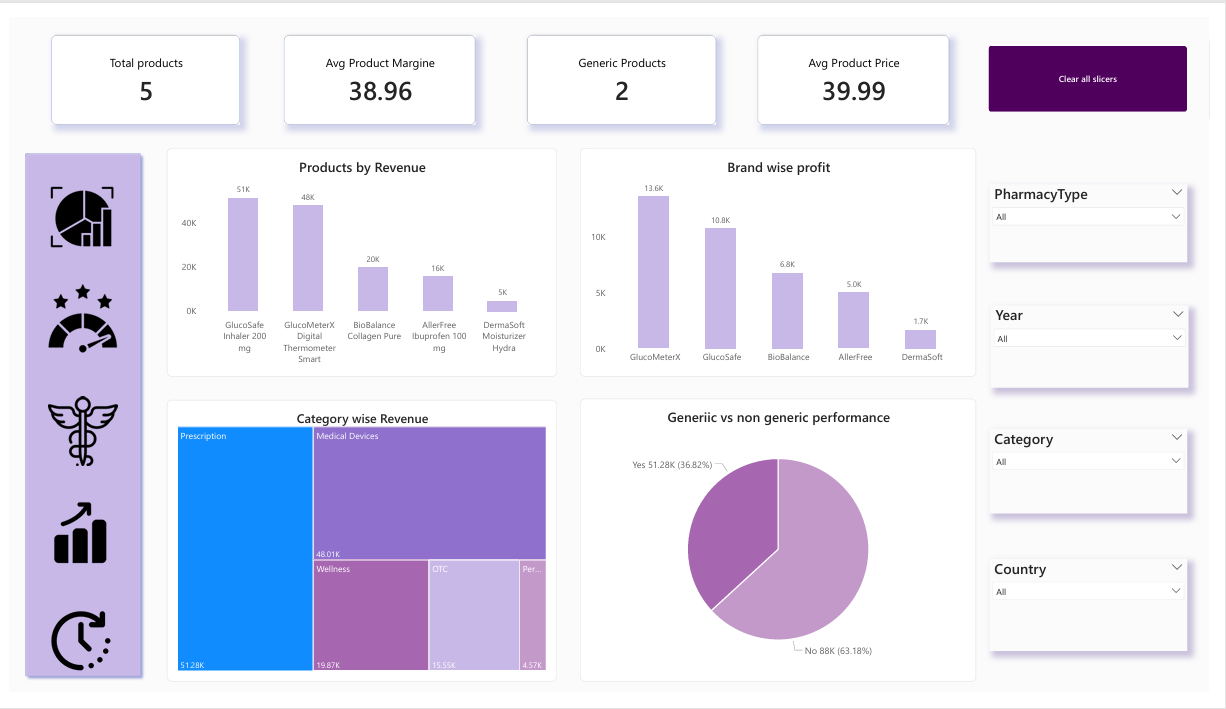

What the dashboard file says about the page in this screenshot:
{"tool":"powerbi","page":{"name":"Performance Analysis","canvas":[1920,1080],"ordinal":1},"visuals":[{"type":"cardVisual","fields":{"Data":["DimProduct.Total products"]},"box":[65.9,26.8,302.6,144.1],"z":0},{"type":"cardVisual","fields":{"Data":["DimProduct.Avg Product Margine"]},"box":[438.4,26.8,306.7,144.1],"z":1000},{"type":"cardVisual","fields":{"Data":["DimProduct.Generic Products"]},"box":[827.4,26.8,302.6,144.1],"z":2000},{"type":"cardVisual","fields":{"Data":["DimProduct.Avg Product Price"]},"box":[1195.9,26.8,306.7,144.1],"z":3000},{"type":"columnChart","title":"Products by Revenue","fields":{"Category":["DimProduct.ProductName"],"Y":["Sum(FactSales.RevenueEUR)"]},"box":[251.1,207.9,623.7,366.4],"z":4000},{"type":"treemap","title":"Category wise  Revenue","fields":{"Group":["DimProduct.Category"],"Values":["Sum(FactSales.RevenueEUR)"]},"box":[251.1,611.3,623.7,450.8],"z":5000},{"type":"columnChart","title":"Brand wise profit","fields":{"Category":["DimProduct.Brand"],"Y":["Sum(FactSales.MarginEUR)"]},"box":[911.8,207.9,634,366.4],"z":6000},{"type":"pieChart","title":"Generiic vs non generic performance","fields":{"Category":["DimProduct.IsGeneric"],"Y":["Sum(FactSales.RevenueEUR)"]},"box":[911.8,609.3,634,452.8],"z":7000},{"type":"slicer","fields":{"Values":["DimPharmacy.PharmacyType"]},"box":[1567.2,266,316.7,124.9],"z":8000},{"type":"slicer","fields":{"Values":["DimDate.Date.Variation.Date Hierarchy.Year"]},"box":[1569,459.7,316.7,132.1],"z":9000},{"type":"slicer","fields":{"Values":["DimProduct.Category"]},"box":[1567.2,656.9,316.7,135.7],"z":10000},{"type":"slicer","fields":{"Values":["DimPharmacy.Country"]},"box":[1567.2,865,316.7,148.4],"z":11000},{"type":"actionButton","box":[1566.4,45.3,317,105],"z":12000},{"type":"group","id":"g1","title":"Group 1","box":[16.5,207.9,201.7,854.2],"z":13000},{"type":"shape","box":[16.5,207.9,201.7,854.2],"z":16500,"group":"g1"},{"type":"image","box":[45.3,422,142,117.3],"z":17005,"group":"g1"},{"type":"image","box":[43.3,944.8,140,102.9],"z":17505,"group":"g1"},{"type":"image","box":[61.8,588.7,111.1,144.1],"z":18005,"group":"g1"},{"type":"image","box":[59.7,255.2,113.2,125.6],"z":18505,"group":"g1"},{"type":"image","box":[41.2,767.8,142,111.1],"z":19005,"group":"g1"}]}

Visuals, with their boxes in screenshot pixels (x1, y1, x2, y2), scaled from the page's 1920x1080 canvas onto the 1226x709 screenshot:
cardVisual - DimProduct.Total products: 42/18/235/112
cardVisual - DimProduct.Avg Product Margine: 280/18/476/112
cardVisual - DimProduct.Generic Products: 528/18/722/112
cardVisual - DimProduct.Avg Product Price: 764/18/959/112
"Products by Revenue" columnChart: 160/136/559/377
"Category wise  Revenue" treemap: 160/401/559/697
"Brand wise profit" columnChart: 582/136/987/377
"Generiic vs non generic performance" pieChart: 582/400/987/697
slicer - DimPharmacy.PharmacyType: 1001/175/1203/257
slicer - DimDate.Date.Variation.Date Hierarchy.Year: 1002/302/1204/389
slicer - DimProduct.Category: 1001/431/1203/520
slicer - DimPharmacy.Country: 1001/568/1203/665
actionButton: 1000/30/1203/99
"Group 1" group: 11/136/139/697
shape: 11/136/139/697
image: 29/277/120/354
image: 28/620/117/688
image: 39/386/110/481
image: 38/168/110/250
image: 26/504/117/577
